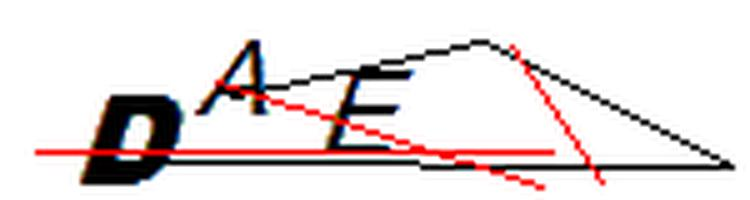A: (190, 32, 281, 128)
D: (72, 86, 186, 192)
E: (315, 62, 421, 160)
